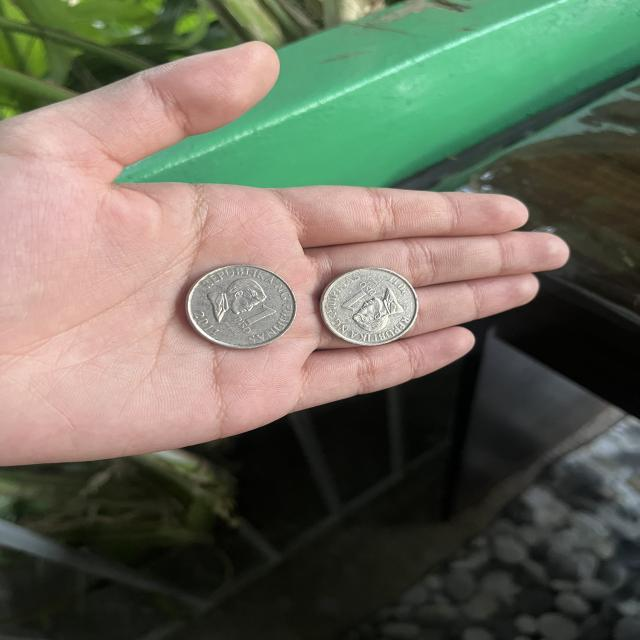1_Old_Back: (334, 269, 414, 341), (202, 270, 285, 339)
